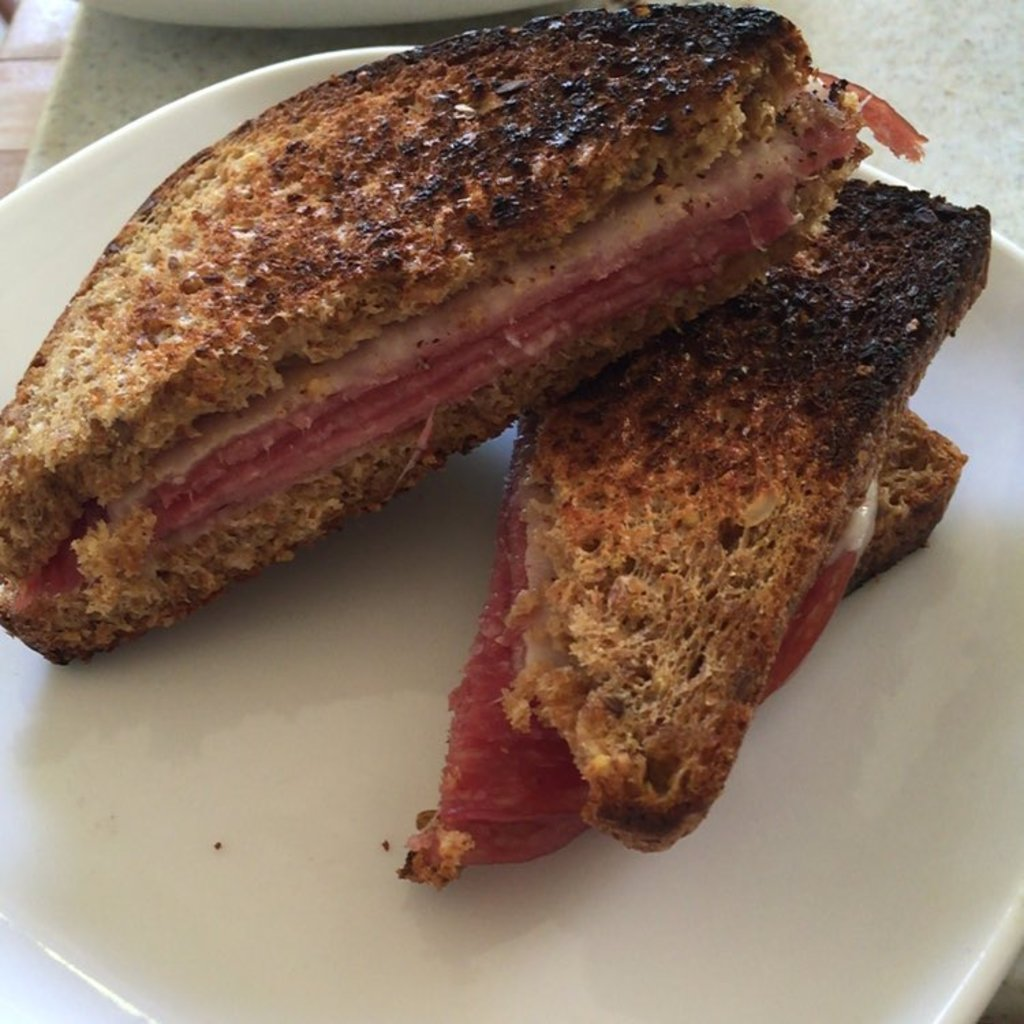sandwich: (0, 5, 924, 679), (389, 167, 995, 881)
